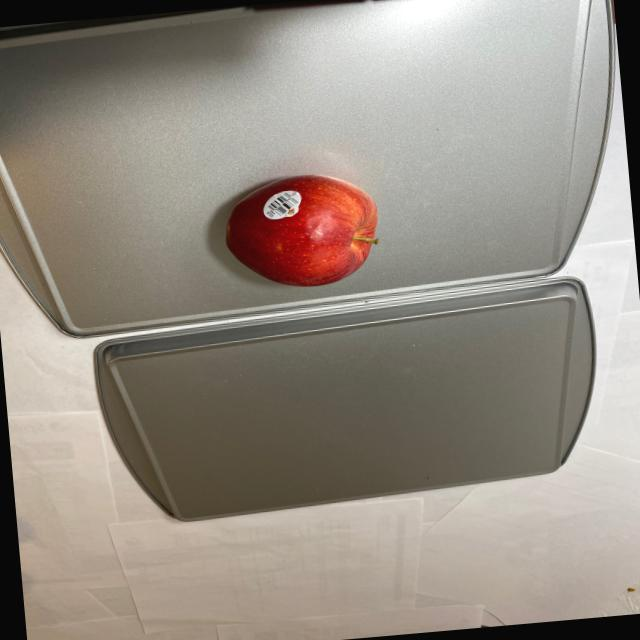apple: (216, 170, 386, 294)
